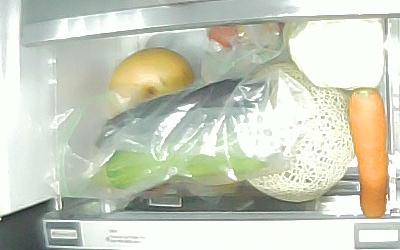cabbage: (281, 18, 385, 91)
carrot: (348, 87, 390, 218)
eggplant_vinyl: (94, 78, 273, 151)
melon_vinyl: (230, 64, 356, 203)
pear: (107, 46, 196, 118)
zucchini_vinyl: (90, 132, 271, 193)
